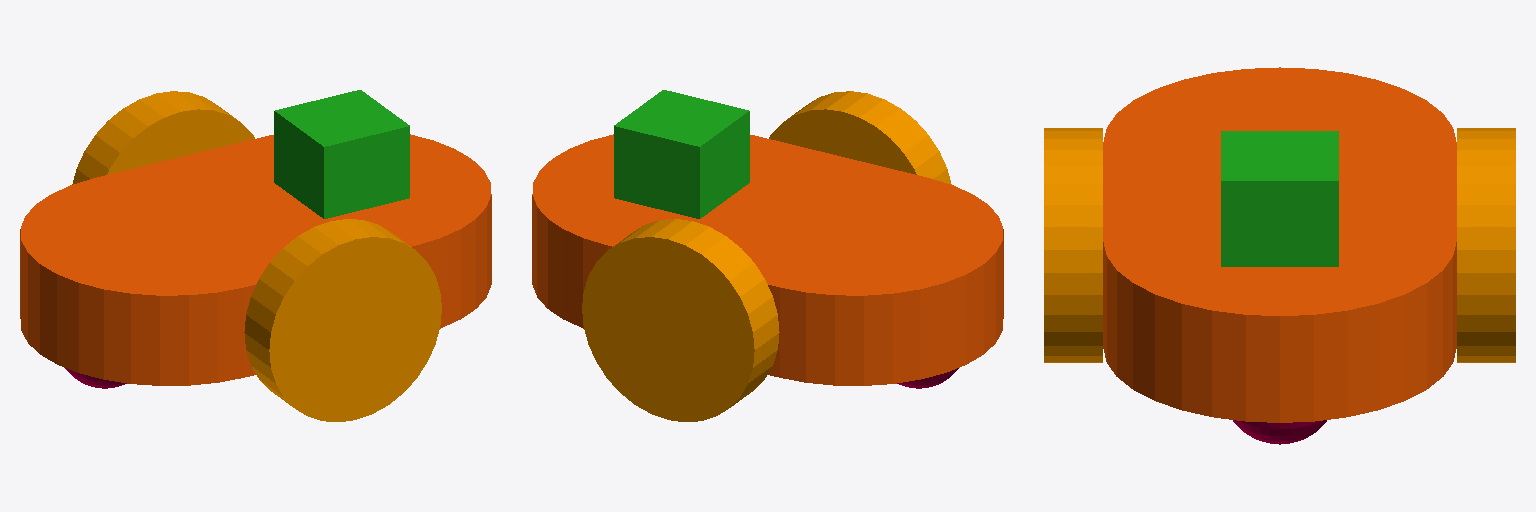
URDF robot description (differential_bot):
<?xml version="1.0"?>
<robot name="differential_bot">

    <!-- Base frame -->
    <link name="baza">
        <visual>
            <geometry>
                <box size="0.2 0.3 0.1"/>
            </geometry>
            <material name="orange">
                <color rgba="0.95 0.4 0.05 1"/>
            </material>
        </visual>
        <collision>
            <geometry>
                <box size="0.2 0.3 0.1"/>
            </geometry>
        </collision>
        <inertial>
            <mass value="1"/>
            <inertia ixx="0.00417" ixy="0.0" ixz="0.0" iyy="0.0108" iyz="0.0" izz="0.00833"/>
        </inertial>
    </link>

    <!-- Base frame front shoulder -->
    <link name="zaok_p">
        <visual>
            <geometry>
                <cylinder radius="0.15" length="0.1"/>
            </geometry>
            <material name="orange">
                <color rgba="0.95 0.4 0.05 1"/>
            </material>
        </visual>
        <collision>
            <geometry>
                <cylinder radius="0.1" length="0.1"/>
            </geometry>
        </collision>
        <inertial>
            <mass value="0.5"/>
            <inertia ixx="0.00323" ixy="0.0" ixz="0.0" iyy="0.00323" iyz="0.0" izz="0.005625"/>
        </inertial>
    </link>

    <!-- Fixed base joint (front)-->
    <joint name="baza_zaokp_wiez" type="fixed">
        <parent link="baza"/>
        <child link="zaok_p"/>
        <origin xyz="0.1 0.0 0.0" rpy="0.0 0.0 0.0"/>
    </joint>
    
    <!-- Base frame back shoulder -->
    <link name="zaok_t">
        <visual>
            <geometry>
                <cylinder radius="0.15" length="0.1"/>
            </geometry>
            <material name="orange">
                <color rgba="0.95 0.4 0.05 1"/>
            </material>
        </visual>
        <collision>
            <geometry>
                <cylinder radius="0.1" length="0.1"/>
            </geometry>
        </collision>
        <inertial>
            <mass value="0.5"/>
            <inertia ixx="0.00323" ixy="0.0" ixz="0.0" iyy="0.00323" iyz="0.0" izz="0.005625"/>
        </inertial>
    </link>

    <!-- Fixed base joint (back) -->
    <joint name="baza_zaokt_wiez" type="fixed">
        <parent link="baza"/>
        <child link="zaok_t"/>
        <origin xyz="-0.1 0.0 0.0" rpy="0.0 0.0 0.0"/>
    </joint>

    <!-- Right wheel (steered) -->
    <link name="kolo_prawe">
        <visual>
            <geometry>
                <cylinder radius="0.1" length="0.05"/>
            </geometry>
            <material name="yellow">
                <color rgba="0.95 0.6 0.0 1"/>
            </material>
        </visual>
        <collision>
            <geometry>
                <cylinder radius="0.1" length="0.05"/>
            </geometry>
        </collision>
        <inertial>
            <mass value="0.5"/>
            <inertia ixx="0.00135" ixy="0.0" ixz="0.0" iyy="0.00135" iyz="0.0" izz="0.0025"/>        
        </inertial>            
    </link> 

    <!-- Continuous steered wheel joint (right)  -->
    <joint name="baza_kolop_wiez" type="continuous">
        <parent link="baza"/>
        <child link="kolo_prawe"/>
        <axis xyz="0 0 1"/>
        <origin xyz="-0.0 -0.175 -0.0" rpy="-1.5708 0.0 0.0"/>
    </joint>

    <!-- Left wheel (steered) -->
    <link name="kolo_lewe">
        <visual>
            <geometry>
                <cylinder radius="0.1" length="0.05"/>
            </geometry>
            <material name="yellow">
                <color rgba="0.95 0.6 0.0 1"/>
            </material>
        </visual>
        <collision>
            <geometry>
                <cylinder radius="0.1" length="0.05"/>
            </geometry>
        </collision>
        <inertial>
            <mass value="0.5"/>
            <inertia ixx="0.00135" ixy="0.0" ixz="0.0" iyy="0.00135" iyz="0.0" izz="0.0025"/>        
        </inertial>            
    </link> 

    <!-- Continuous steered wheel joint (left) -->
    <joint name="baza_kolol_wiez" type="continuous">
        <parent link="baza"/>
        <child link="kolo_lewe"/>
        <axis xyz="0 0 1"/>
        <origin xyz="-0.0 0.175 -0.0" rpy="-1.5708 0.0 0.0"/>
    </joint>

    <!-- Front wheel (passive) -->
    <link name="kolo_przednie">
        <visual>
            <geometry>
                <sphere radius="0.05"/>
            </geometry>
            <material name="violet">
                <color rgba="0.7 0.0 0.3 1"/>
            </material>
        </visual>
        <collision>
            <geometry>
                <sphere radius="0.05"/>
            </geometry>
        </collision>
        <inertial>
            <mass value="0.25"/>
            <inertia ixx="0.00025" ixy="0.0" ixz="0.0" iyy="0.00025" iyz="0.0" izz="0.00025"/>        
        </inertial>            
    </link> 

    <!-- Continuous passive wheel joint (front) -->
    <joint name="zaokp_kolop_wiez" type="continuous">
        <parent link="zaok_p"/>
        <child link="kolo_przednie"/>
        <axis xyz="0 0 1"/>
        <origin xyz="0.075 0.0 -0.05" rpy="0.0 0.0 0.0"/>
    </joint>
    

    <!-- Back wheel (passive) -->
    <link name="kolo_tylne">
        <visual>
            <geometry>
                <sphere radius="0.05"/>
            </geometry>
            <material name="violet">
                <color rgba="0.7 0.0 0.3 1"/>
            </material>
        </visual>
        <collision>
            <geometry>
                <sphere radius="0.05"/>
            </geometry>
        </collision>
        <inertial>
            <mass value="0.25"/>
            <inertia ixx="0.00025" ixy="0.0" ixz="0.0" iyy="0.00025" iyz="0.0" izz="0.00025"/> 
        </inertial>            
    </link> 

    <!-- Continuous passive wheel joint (back) -->
    <joint name="zaokt_kolot_wiez" type="continuous">
        <parent link="zaok_t"/>
        <child link="kolo_tylne"/>
        <axis xyz="0 0 1"/>
        <origin xyz="-0.075 0.0 -0.05" rpy="0.0 0.0 0.0"/>
    </joint>

    
    <!-- Distance sensor -->
    <link name="czujnik_odleglosci">
        <visual>
            <geometry>
                <box size="0.1 0.1 0.1"/>
            </geometry>
            <material name="green">
                <color rgba="0.15 0.7 0.15 1"/>
            </material>
        </visual>
        <collision>
            <geometry>
                <box size="0.1 0.1 0.1"/>
            </geometry>
        </collision>
        <inertial>
            <mass value="0.001"/>
            <inertia ixx="0.0000017" ixy="0" ixz="0.0" iyy="0.0000017" iyz="0.0" izz="0.0000017"/>
        </inertial>
    </link>

    <!-- Fixed sensor joint -->
    <joint name="baza_czujnik_wiez" type="fixed">
        <axis xyz="0.0 1 0.0"/>
        <parent link="baza"/>
        <child link="czujnik_odleglosci"/>
        <origin xyz="0.1 0.0 0.08" rpy="0.0 0.0 0.0"/>
    </joint>


    <!-- Distance sensor plugin -->
    <gazebo reference="czujnik_odleglosci">
        <sensor type="ray" name="laser">
            <pose>0 0 0 0 0 0</pose>
            <visualize>true</visualize>
            <update_rate>40</update_rate>
            <ray>
                <scan>
                    <horizontal>
                        <samples>720</samples>
                        <resolution>1</resolution>
                        <min_angle>-1.578</min_angle>
                        <max_angle>1.578</max_angle>
                    </horizontal>
                </scan>
                <range>
                    <min>0.1</min>
                    <max>8</max>
                    <resolution>0.1</resolution>
                </range>
            </ray>
            <plugin name="czujnik" filename="libgazebo_ros_laser.so">
                <topicName>/scan</topicName>
                <frameName>czujnik_odleglosci</frameName>
            </plugin>
        </sensor>
    </gazebo>    

    <!-- Differential drive plugin -->
    <gazebo>
        <plugin name="diff_bot_controller"   filename="libgazebo_ros_diff_drive.so">
            <leftJoint>baza_kolol_wiez</leftJoint>
            <rightJoint>baza_kolop_wiez</rightJoint>
            <legacyMode>false</legacyMode>
            <robotBaseFrame>baza</robotBaseFrame>
            <wheelSeparation>0.35</wheelSeparation>
            <wheelDiameter>0.2</wheelDiameter>
            
        </plugin>
    </gazebo>

    <!-- Gazebo Colors -->
    <gazebo reference="baza">
        <material>Gazebo/Orange</material>
    </gazebo>
    <gazebo reference="zaok_p">
        <material>Gazebo/Orange</material>
    </gazebo>
    <gazebo reference="zaok_t">
        <material>Gazebo/Orange</material>
    </gazebo>
    <gazebo reference="kolo_prawe">
        <material>Gazebo/Yellow</material>
    </gazebo>
    <gazebo reference="kolo_lewe">
        <material>Gazebo/Yellow</material>
    </gazebo>
    <gazebo reference="kolo_przednie">
        <material>Gazebo/Purple</material>
    </gazebo>
    <gazebo reference="kolo_tylne">
        <material>Gazebo/Purple</material>
    </gazebo>
    <gazebo reference="czujnik_odleglosci">
        <material>Gazebo/Green</material>
    </gazebo>
</robot>

--- Facts derived from the render (not from the file) ---
Views: 3 orthographic renders of the robot side by side, from view 1: azimuth 30°, elevation 25°; view 2: azimuth 150°, elevation 25°; view 3: azimuth 270°, elevation 25°.
Model differential_bot with 8 links and 7 joints (4 continuous, 3 fixed), rooted at baza, posed all joints at 0.
Visible links, largest first — view 1: zaok_t, kolo_prawe, zaok_p, czujnik_odleglosci, kolo_lewe, baza; view 2: zaok_t, kolo_lewe, zaok_p, czujnik_odleglosci, kolo_prawe, baza; view 3: zaok_p, zaok_t, czujnik_odleglosci, kolo_prawe, kolo_lewe, baza, kolo_przednie.
Boxes of the visible links, x1,y1,x2,y2 form: zaok_t: [20, 170, 316, 385]; kolo_prawe: [244, 219, 441, 421]; zaok_p: [193, 134, 491, 328]; czujnik_odleglosci: [274, 90, 409, 218]; kolo_lewe: [72, 91, 254, 184]; baza: [97, 136, 416, 377]; zaok_t: [709, 170, 1003, 385]; kolo_lewe: [582, 219, 779, 421]; zaok_p: [532, 134, 820, 328]; czujnik_odleglosci: [614, 90, 749, 218]; kolo_prawe: [769, 91, 951, 184]; baza: [607, 136, 927, 377]; zaok_p: [1103, 172, 1456, 422]; zaok_t: [1103, 67, 1455, 211]; czujnik_odleglosci: [1221, 131, 1338, 266]; kolo_prawe: [1044, 128, 1102, 362]; kolo_lewe: [1457, 128, 1515, 362]; baza: [1103, 142, 1456, 241]; kolo_przednie: [1233, 420, 1326, 444].
Bounding box of the posed robot: 0.5 × 0.4 × 0.23 m (x, y, z).
Geometry: primitives only (box / cylinder / sphere), no mesh files.
